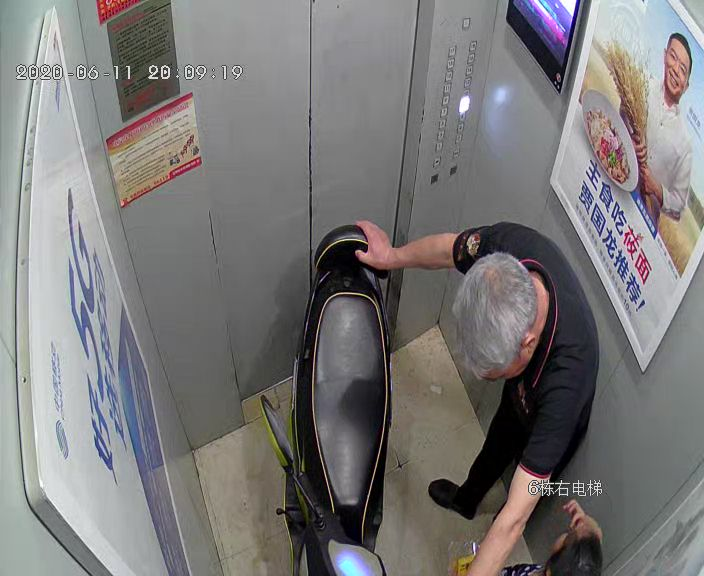Electric-bicycle: (261, 224, 396, 576)
